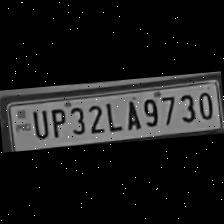0: (195, 89, 214, 121)
2: (84, 100, 105, 135)
3: (65, 102, 86, 136), (177, 91, 197, 124)
7: (156, 93, 178, 127)
9: (138, 94, 160, 130)
A: (120, 96, 142, 131)
L: (103, 97, 122, 132)
P: (46, 105, 68, 139)
U: (28, 106, 50, 140)
